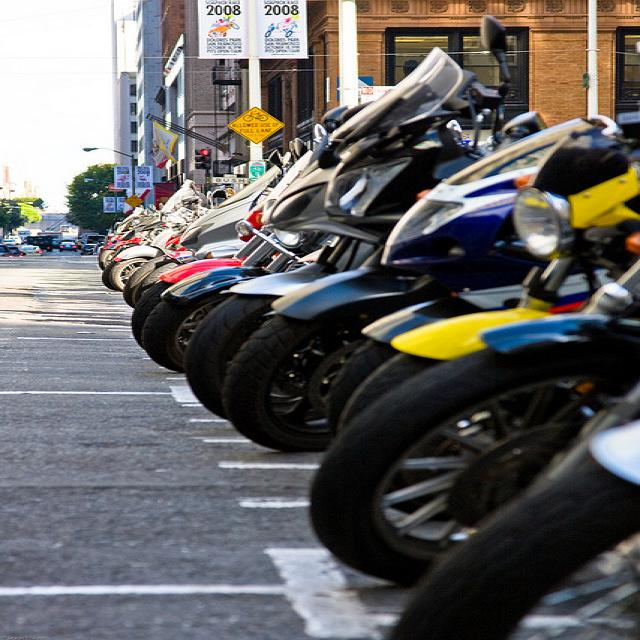motor: (198, 107, 638, 462), (184, 113, 549, 425), (305, 261, 640, 590), (137, 49, 468, 371), (326, 129, 640, 446), (404, 413, 635, 626), (321, 262, 532, 444), (130, 204, 280, 341), (128, 167, 282, 300), (99, 176, 207, 292), (99, 202, 166, 271)
